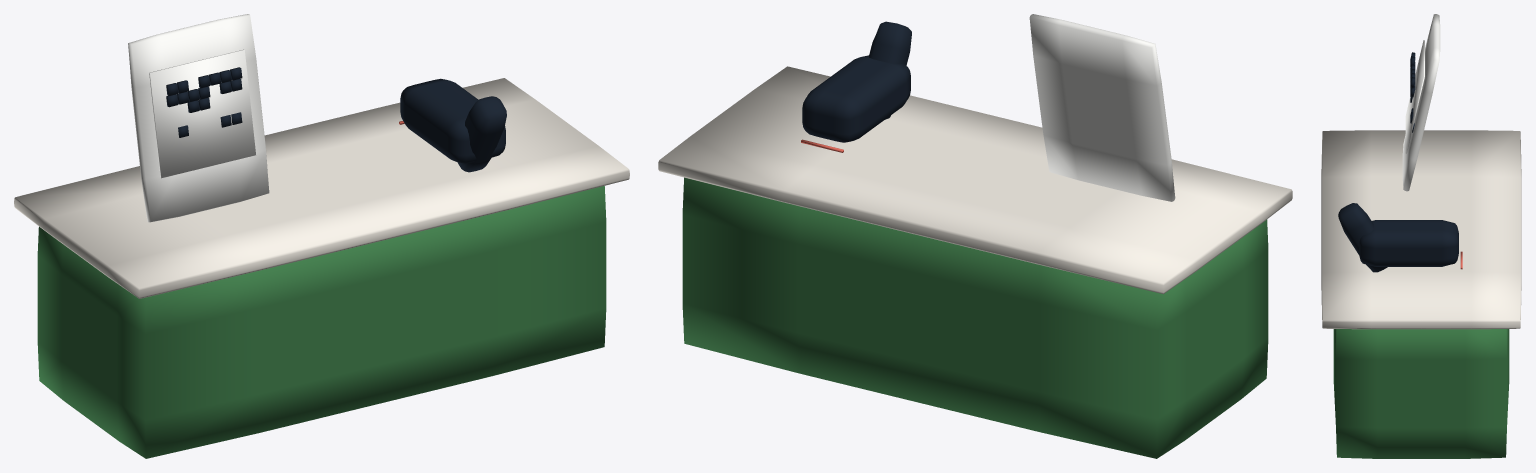
The model's file is ph_counter.glb.
3 views of the same model, side by side, from view 1: azimuth 30°, elevation 25°; view 2: azimuth 150°, elevation 25°; view 3: azimuth 270°, elevation 25° (orthographic). The views are drawn at different scales.
Visible parts, largest first — view 1: ph_counter; view 2: ph_counter; view 3: ph_counter.
Boxes of the visible parts, x1,y1,x2,y2 form: ph_counter: (14, 14, 629, 458); ph_counter: (658, 14, 1292, 458); ph_counter: (1321, 14, 1521, 458).
Bounding box in the file's own units: 3.6 × 2.54 × 1.6.
